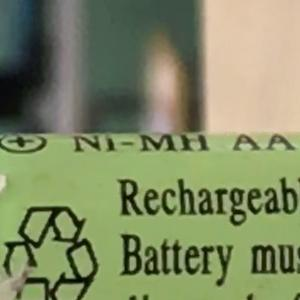keyword: (63, 125, 218, 162)
